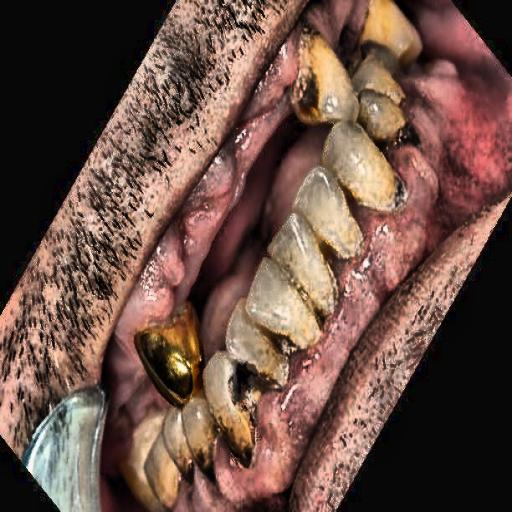Calculus: (281, 19, 434, 210), (122, 409, 276, 494), (244, 297, 342, 410)
